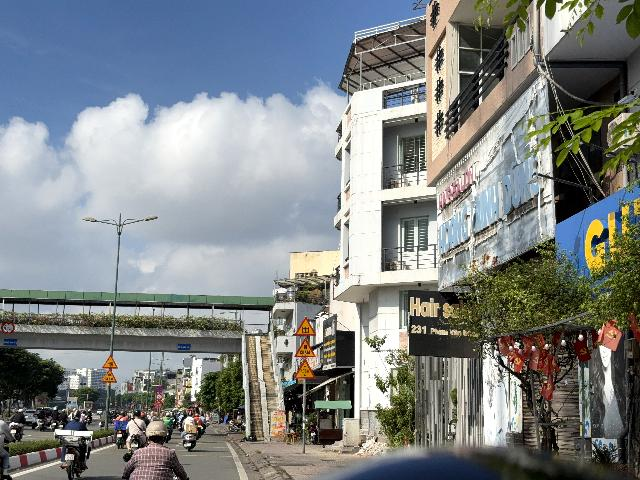chieu-cao-tinh-khong-thuc-te: (293, 359, 316, 379)
di-cham: (294, 338, 316, 357), (101, 369, 117, 383)
han-che-chieu-cao: (1, 321, 15, 334)
noi-giao-nhau-voi-duong-sat-co-rao-chan: (295, 317, 316, 336), (102, 354, 118, 369)
